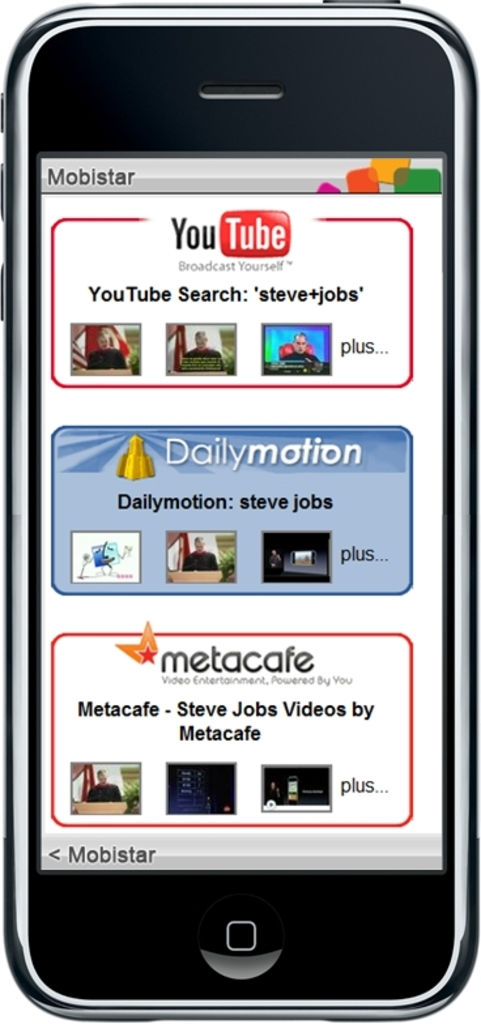mobile phone: (0, 13, 465, 1023)
